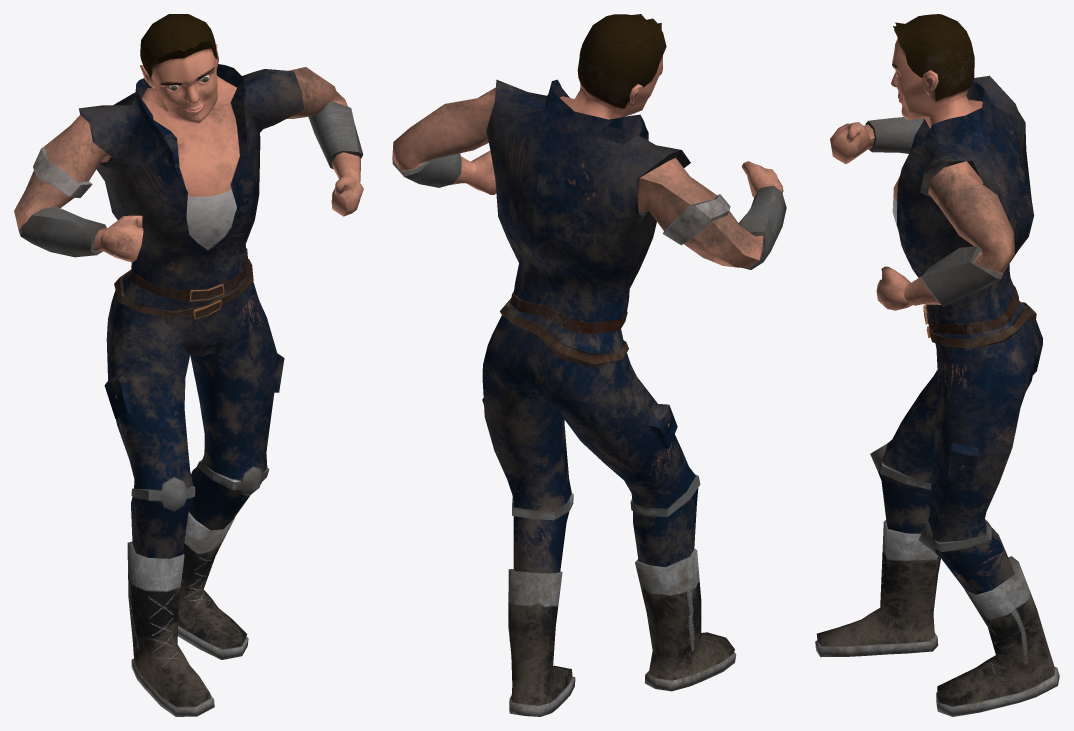
Rendered from Anim_ataque_d2_jugador.0030.obj.
3 views of the same model, side by side, from view 1: azimuth 30°, elevation 25°; view 2: azimuth 150°, elevation 25°; view 3: azimuth 270°, elevation 25° (orthographic). The views are drawn at different scales.
Parts seen in each view (by area): view 1: polySurface1; view 2: polySurface1; view 3: polySurface1.
Boxes of the visible parts, x1,y1,x2,y2 form: polySurface1: (14,14,363,716); polySurface1: (392,14,786,716); polySurface1: (815,14,1059,716).
Size of the model in its own units: 5.11 by 9.41 by 3.15.
